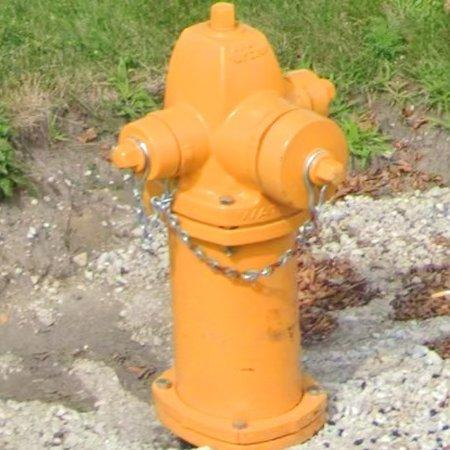a fire hydrant: (111, 2, 349, 450)
